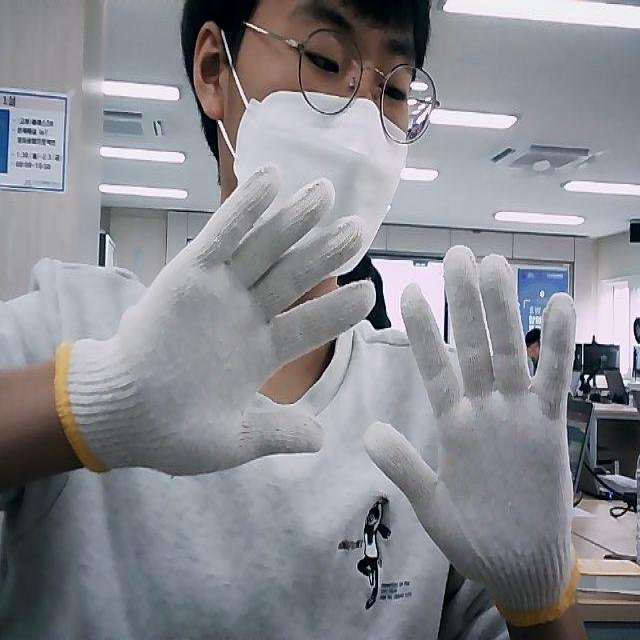gloves: (56, 168, 374, 476), (382, 243, 578, 621)
